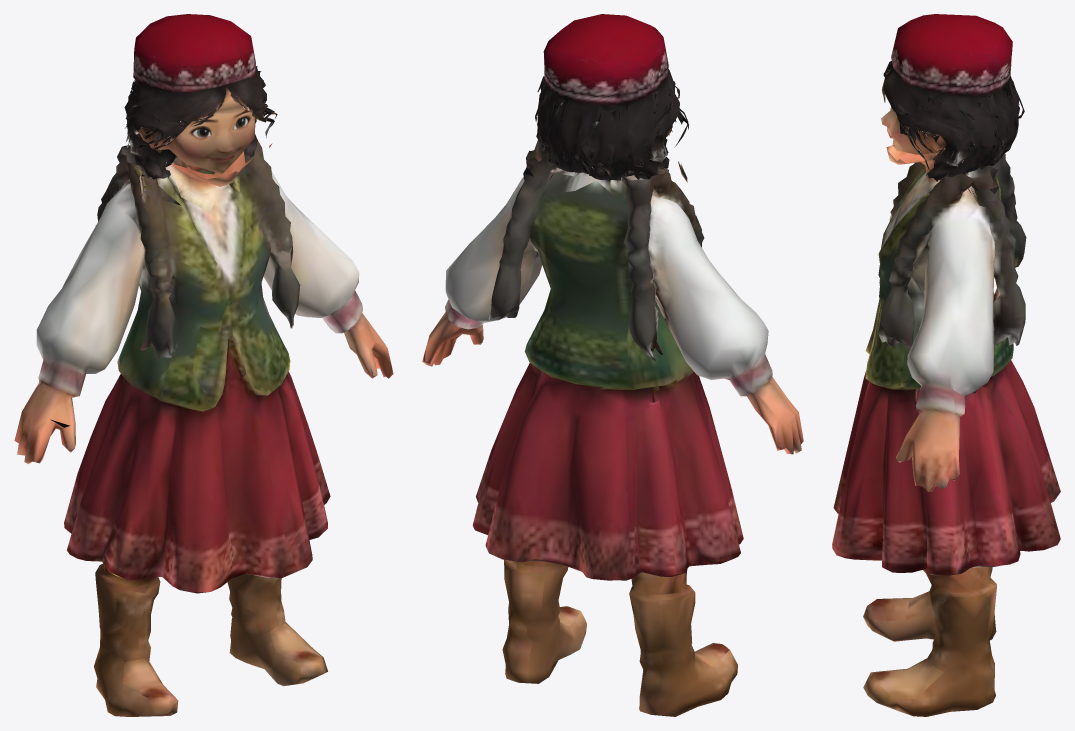
File: child.gen.glb
3 renders of one model, left to right at view 1: azimuth 30°, elevation 25°; view 2: azimuth 150°, elevation 25°; view 3: azimuth 270°, elevation 25°, orthographic. The views are drawn at different scales.
Parts seen in each view (by area): view 1: child.raw; view 2: child.raw; view 3: child.raw.
Boxes of the visible parts, x1,y1,x2,y2 form: child.raw: (14,14,393,716); child.raw: (422,14,803,716); child.raw: (832,14,1060,716).
Size of the model in its own units: 0.6729 by 1.15 by 0.3693.
1 material, 1 textured.
